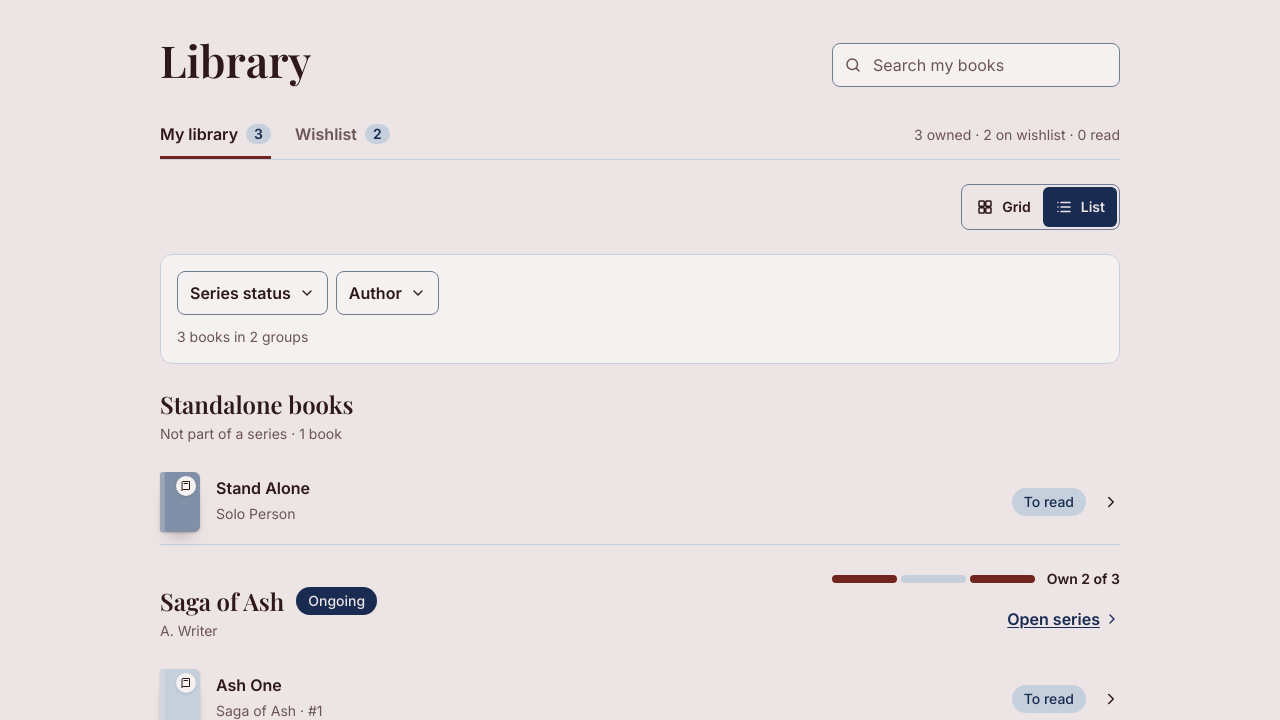
Test: Library › narrows the list by title or author while you type
expect the text "Stand Alone" is shown: met, box [216,478,310,498]
In the search field labelled "Search my books": x=976, y=65 [832,43,1120,87], type "solo"
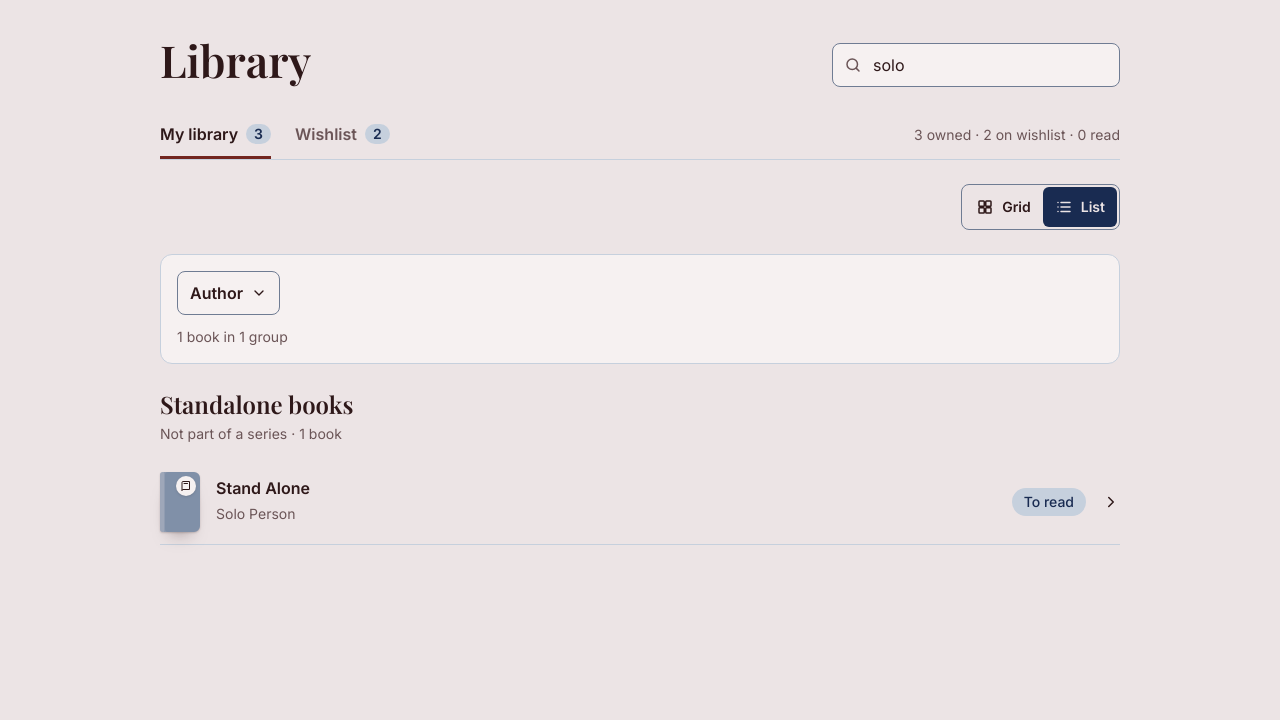
expect the text "Stand Alone" is shown: met, box [216,478,310,498]
expect the link "Ash One" is gone: met
Replace the text in the search field named "Search my books" with "zzzz": x=976, y=65 [832,43,1120,87]
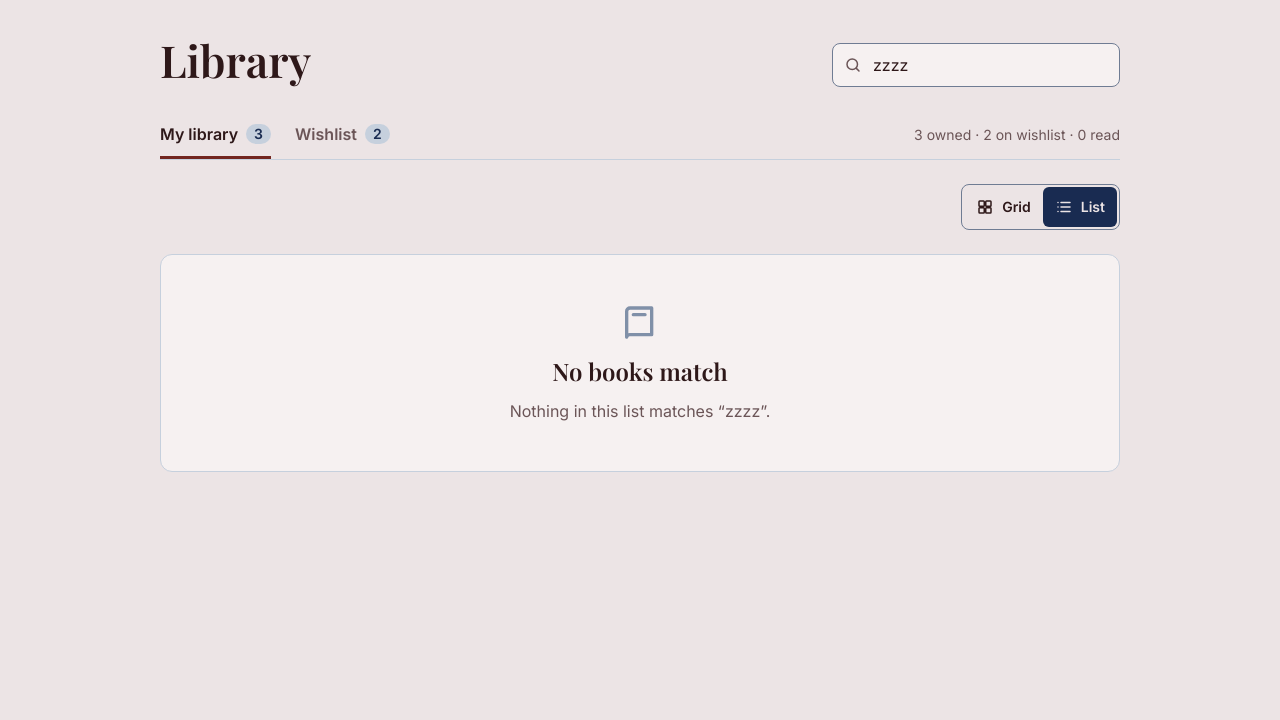
expect the heading "No books match" is shown: met, box [552,355,728,387]
